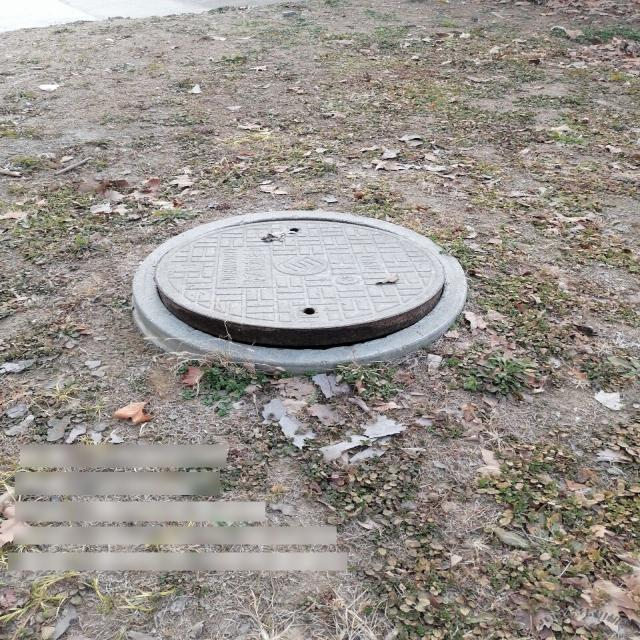Faulty: (132, 210, 464, 376)
